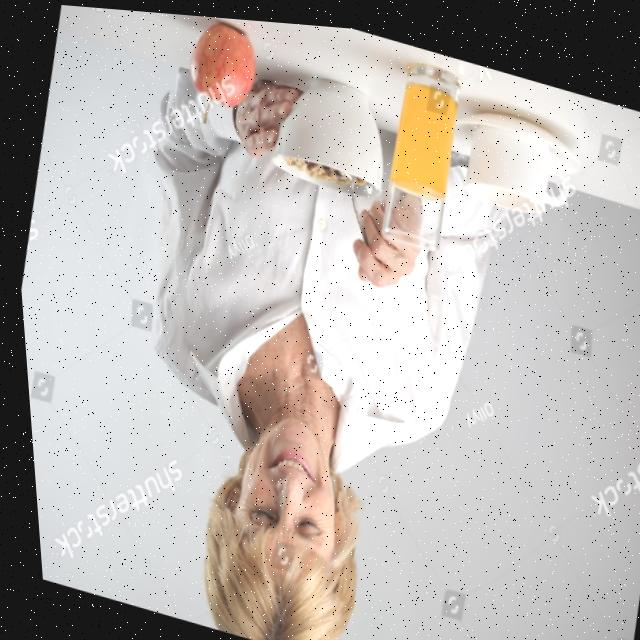eating-person: (43, 3, 631, 640)
